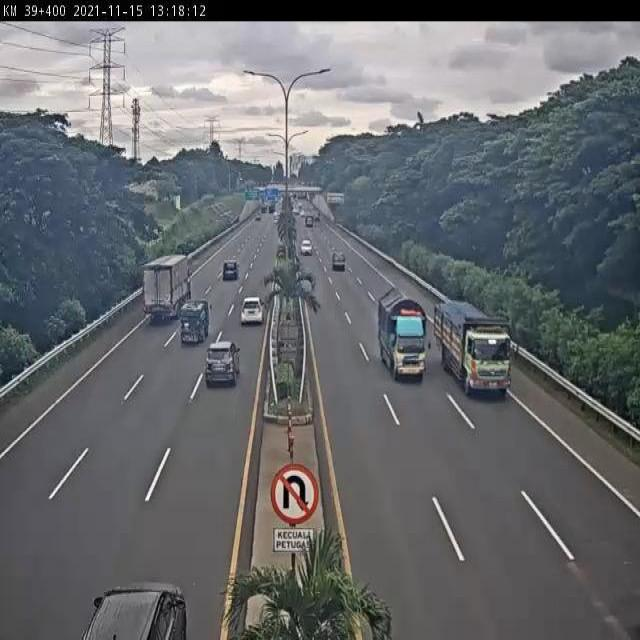car: (205, 338, 241, 386), (240, 295, 266, 325), (222, 259, 241, 281)
truck-l-: (434, 293, 513, 396), (144, 251, 192, 321)
truck-m-: (377, 284, 427, 380), (179, 299, 212, 345)
